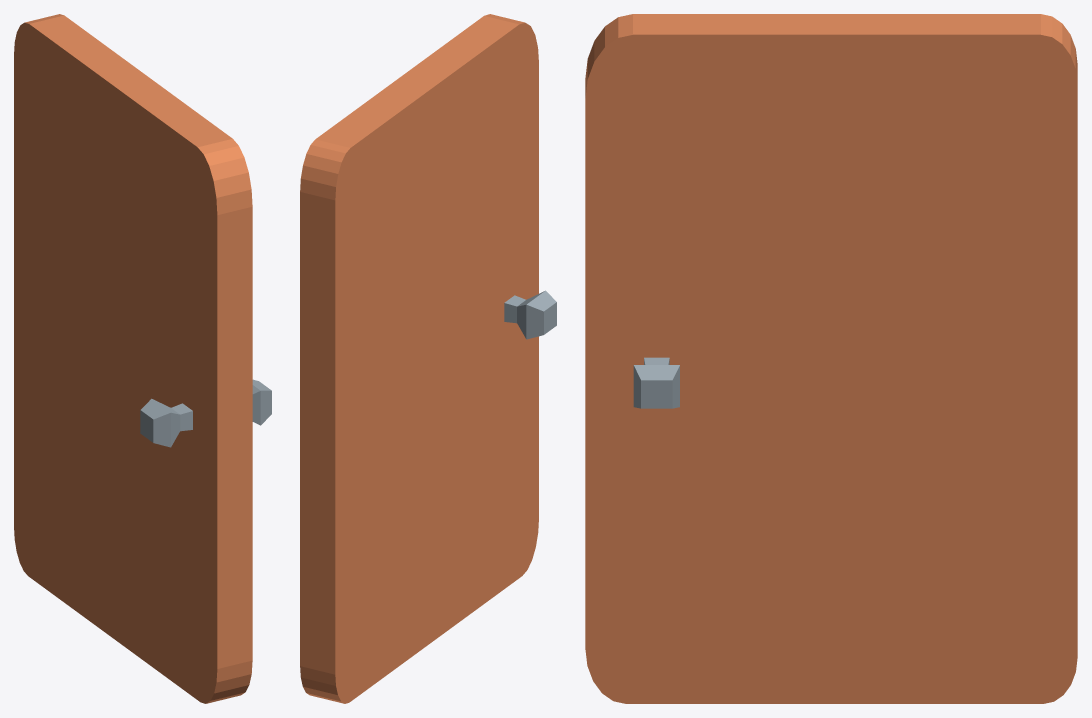
The model's file is woodenDoor.fbx.
The picture shows the model from 3 angles, left to right: view 1: azimuth 30°, elevation 25°; view 2: azimuth 150°, elevation 25°; view 3: azimuth 270°, elevation 25°; orthographic projection. The views are drawn at different scales.
Visible parts, largest first — view 1: Cube, Cube.002, Cube.001; view 2: Cube, Cube.002; view 3: Cube, Cube.001.
Part boxes in pixels (box(x1,y1,x2,y2)): Cube: box(14, 14, 252, 703); Cube.002: box(140, 398, 192, 447); Cube.001: box(252, 379, 271, 425); Cube: box(300, 14, 538, 703); Cube.002: box(504, 290, 556, 339); Cube: box(585, 14, 1077, 703); Cube.001: box(633, 357, 679, 408).
Size of the model in its own units: 135 by 600 by 400.
